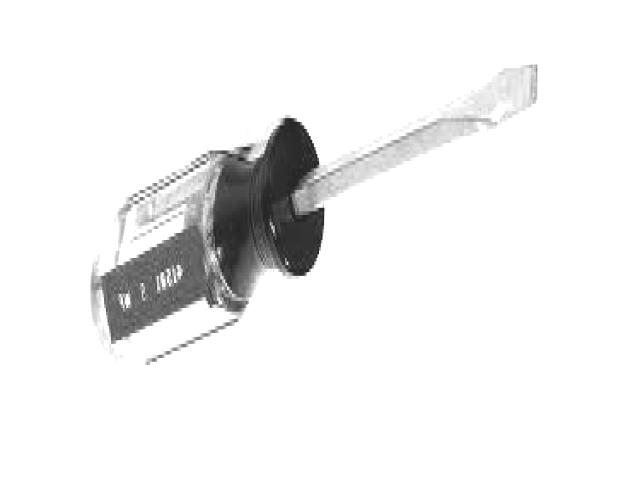Screwdriver: (90, 67, 538, 365)
